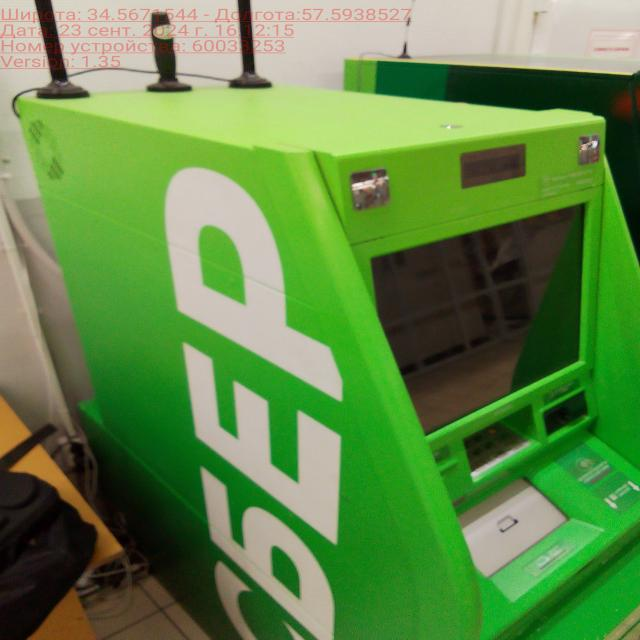bank: (14, 81, 640, 640)
